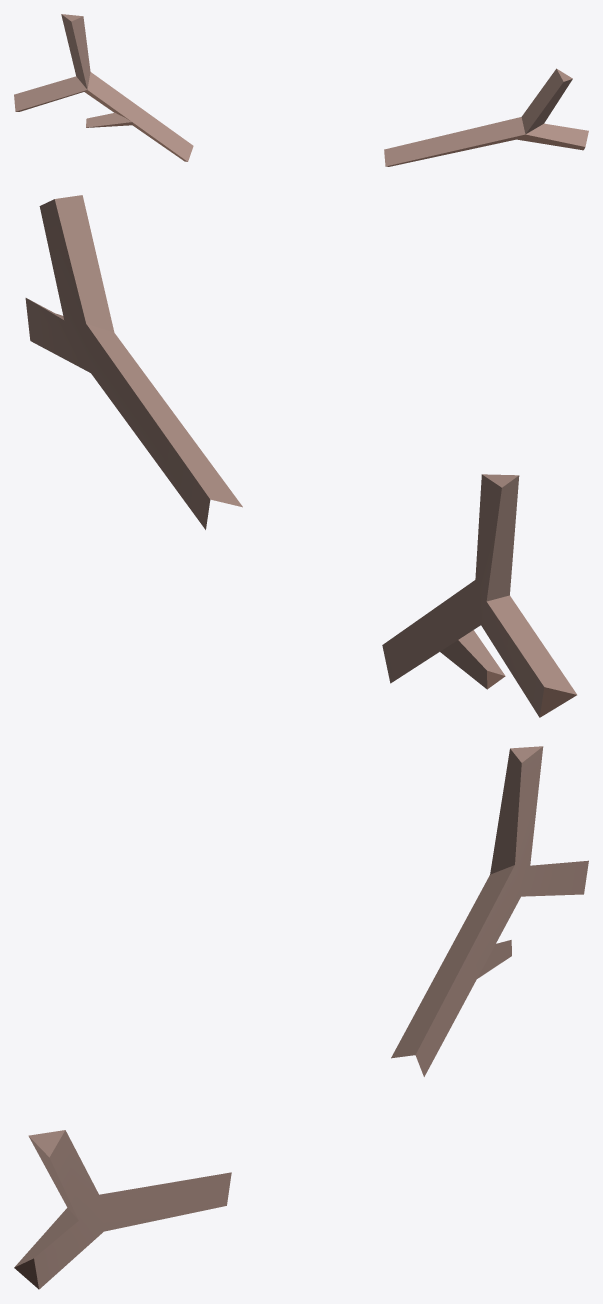
The model's file is IglooSnowmanArms.glb.
3 renders of one model, top to bottom at view 1: azimuth 30°, elevation 25°; view 2: azimuth 150°, elevation 25°; view 3: azimuth 270°, elevation 25°, orthographic. The views are drawn at different scales.
Visible parts, largest first — view 1: IglooSnowmanArms; view 2: IglooSnowmanArms; view 3: IglooSnowmanArms.
Part boxes in pixels (box(x1,y1,x2,y2)): IglooSnowmanArms: box(14, 14, 588, 166); IglooSnowmanArms: box(25, 195, 576, 717); IglooSnowmanArms: box(14, 746, 588, 1289).
Bounding box in the file's own units: 0.6636 × 0.2168 × 0.4424.
